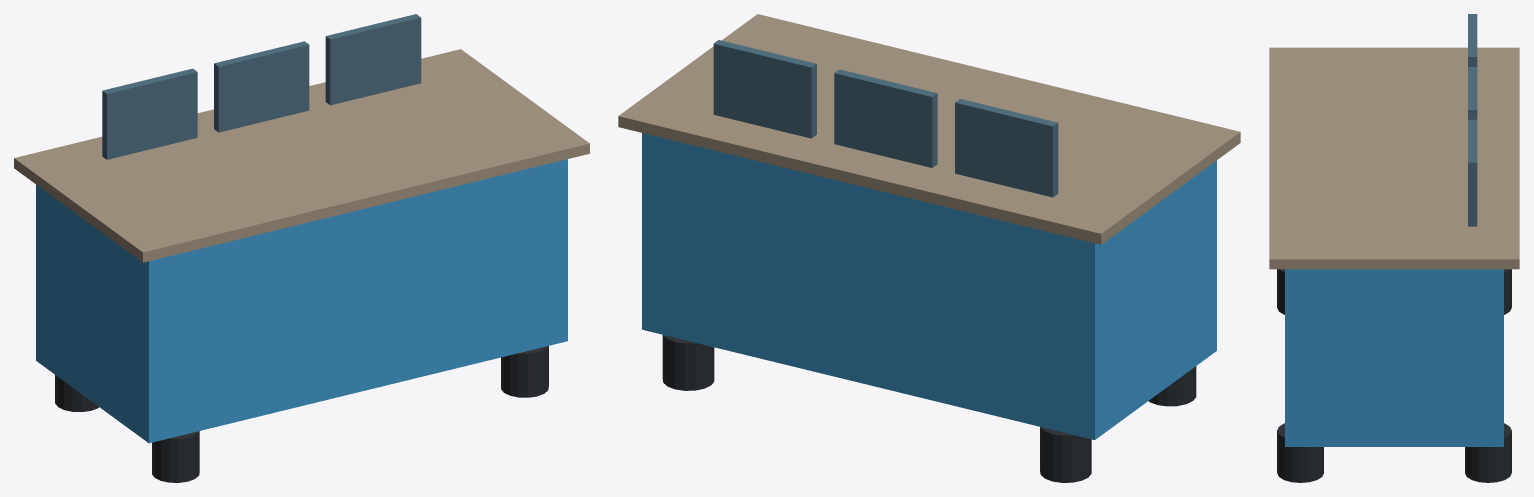
The model's file is stock-car-oval-speedway-pit-box-war-wagon-623ea425__16942.glb.
3 renders of one model, left to right at view 1: azimuth 30°, elevation 25°; view 2: azimuth 150°, elevation 25°; view 3: azimuth 270°, elevation 25°, orthographic. The views are drawn at different scales.
Parts seen in each view (by area): view 1: pit-box-war-wagon; view 2: pit-box-war-wagon; view 3: pit-box-war-wagon.
Boxes of the visible parts, x1,y1,x2,y2 form: pit-box-war-wagon: (14, 14, 589, 482); pit-box-war-wagon: (618, 14, 1240, 482); pit-box-war-wagon: (1269, 14, 1519, 482).
Bounding box in the file's own units: 3.2 × 2.13 × 1.6.
